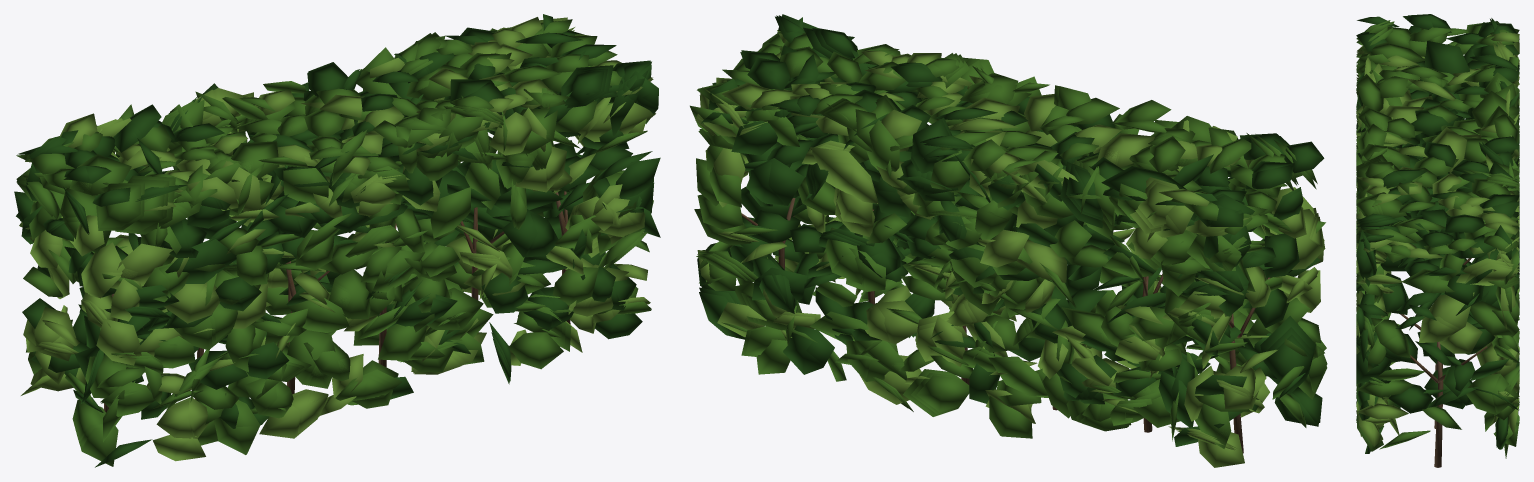
The model's file is MV_Hedge_Straight_2m.fbx.
The picture shows the model from 3 angles, left to right: view 1: azimuth 30°, elevation 25°; view 2: azimuth 150°, elevation 25°; view 3: azimuth 270°, elevation 25°; orthographic projection. The views are drawn at different scales.
Parts seen in each view (by area): view 1: LOD0_Mesh, LOD1_Mesh, LOD2_Mesh; view 2: LOD0_Mesh, LOD1_Mesh, LOD2_Mesh; view 3: LOD0_Mesh, LOD1_Mesh, LOD2_Mesh.
Boxes of the visible parts, <box> form: LOD0_Mesh: <box>14,14,660,466</box>; LOD1_Mesh: <box>16,19,658,467</box>; LOD2_Mesh: <box>16,17,655,466</box>; LOD0_Mesh: <box>690,14,1327,467</box>; LOD1_Mesh: <box>696,14,1327,452</box>; LOD2_Mesh: <box>697,14,1322,448</box>; LOD0_Mesh: <box>1356,14,1519,467</box>; LOD1_Mesh: <box>1356,16,1519,466</box>; LOD2_Mesh: <box>1356,27,1519,447</box>.
Bounding box in the file's own units: 2 × 1 × 0.6.
